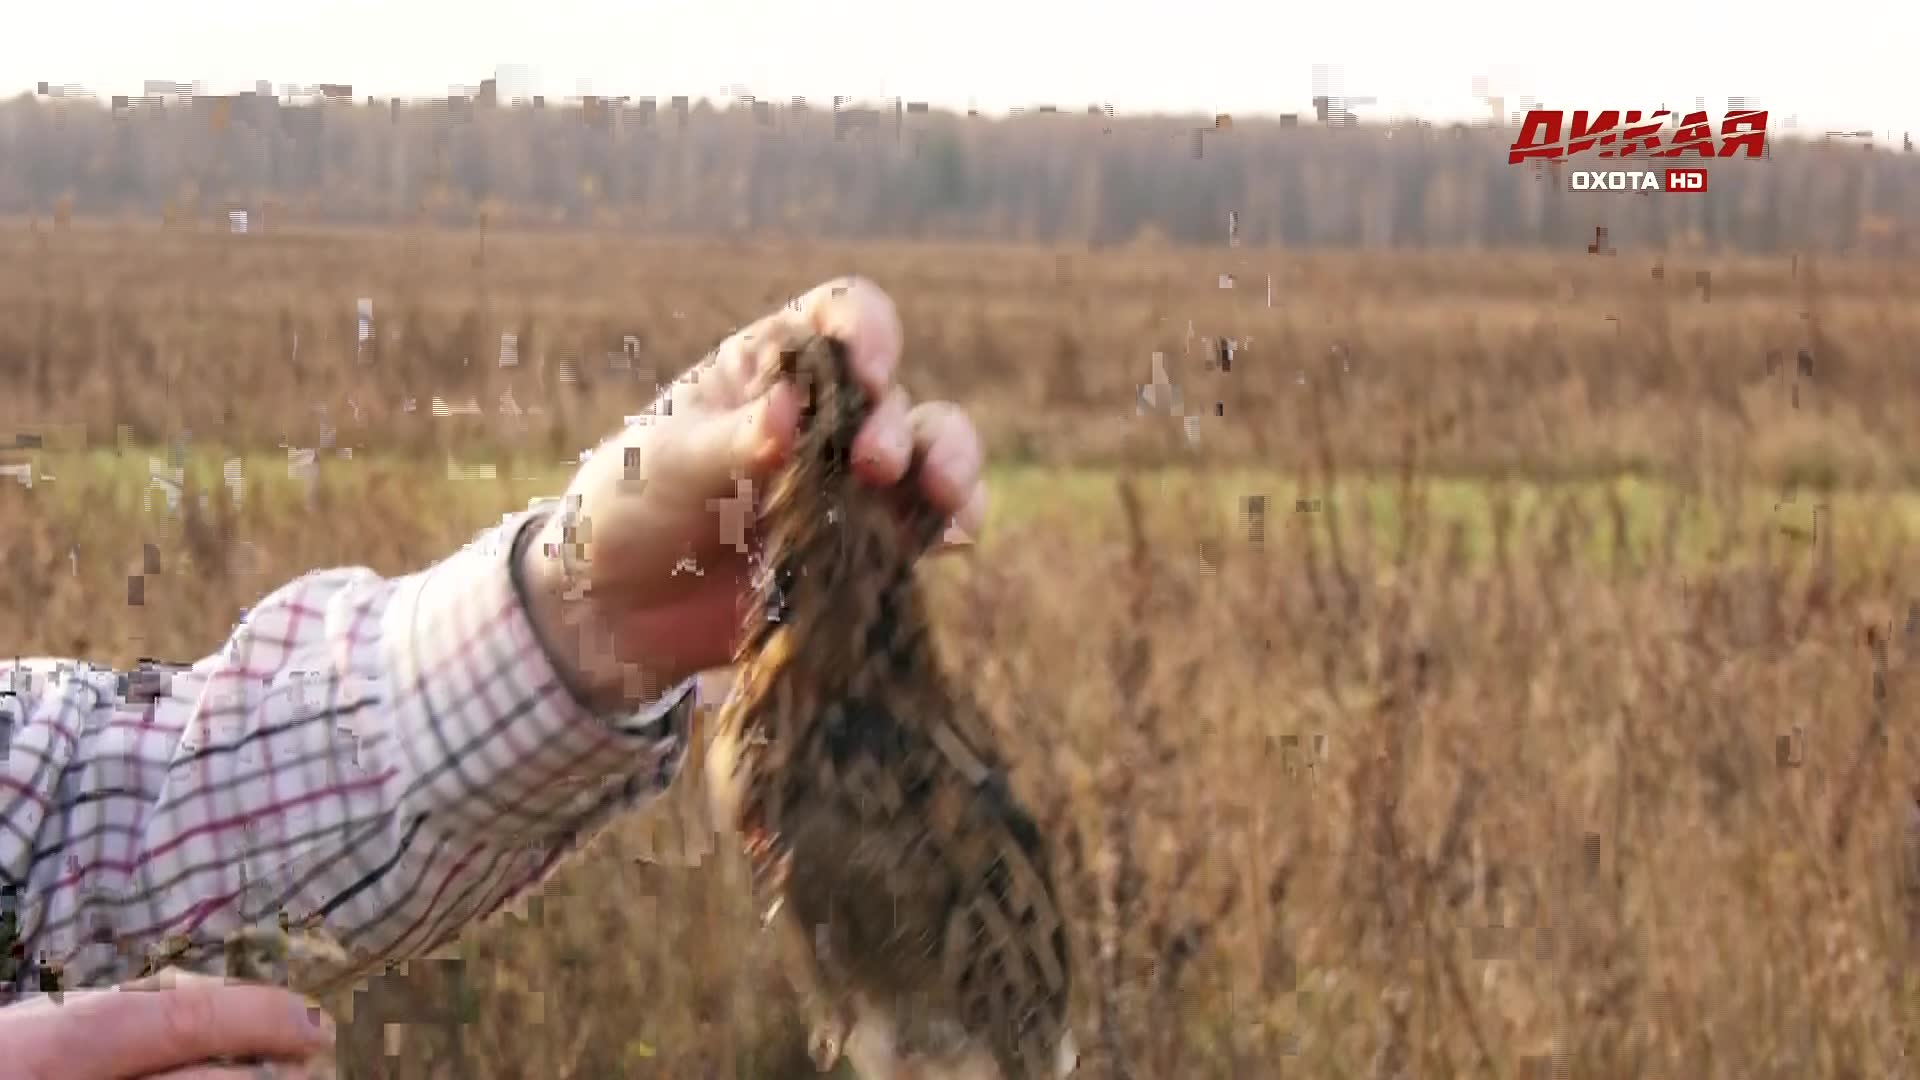Dikaya_Ohota_HD: (1503, 104, 1771, 195)
